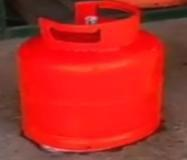cylinder: (1, 1, 187, 160)
